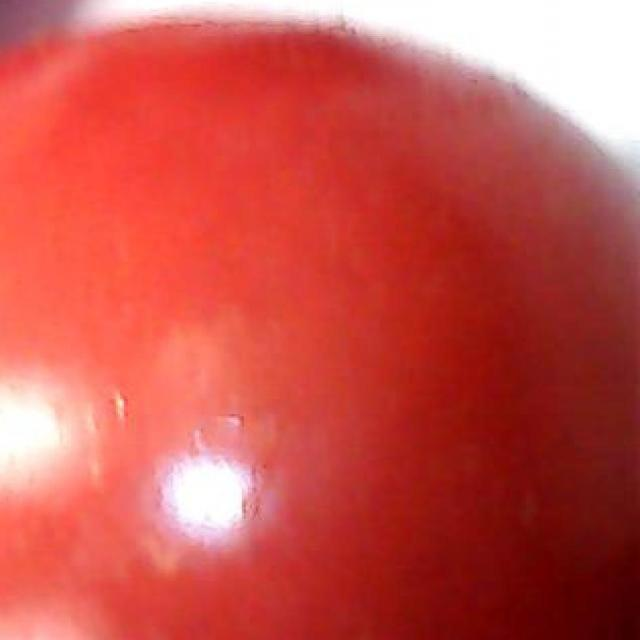Healthy Fruit: (1, 7, 426, 427)
